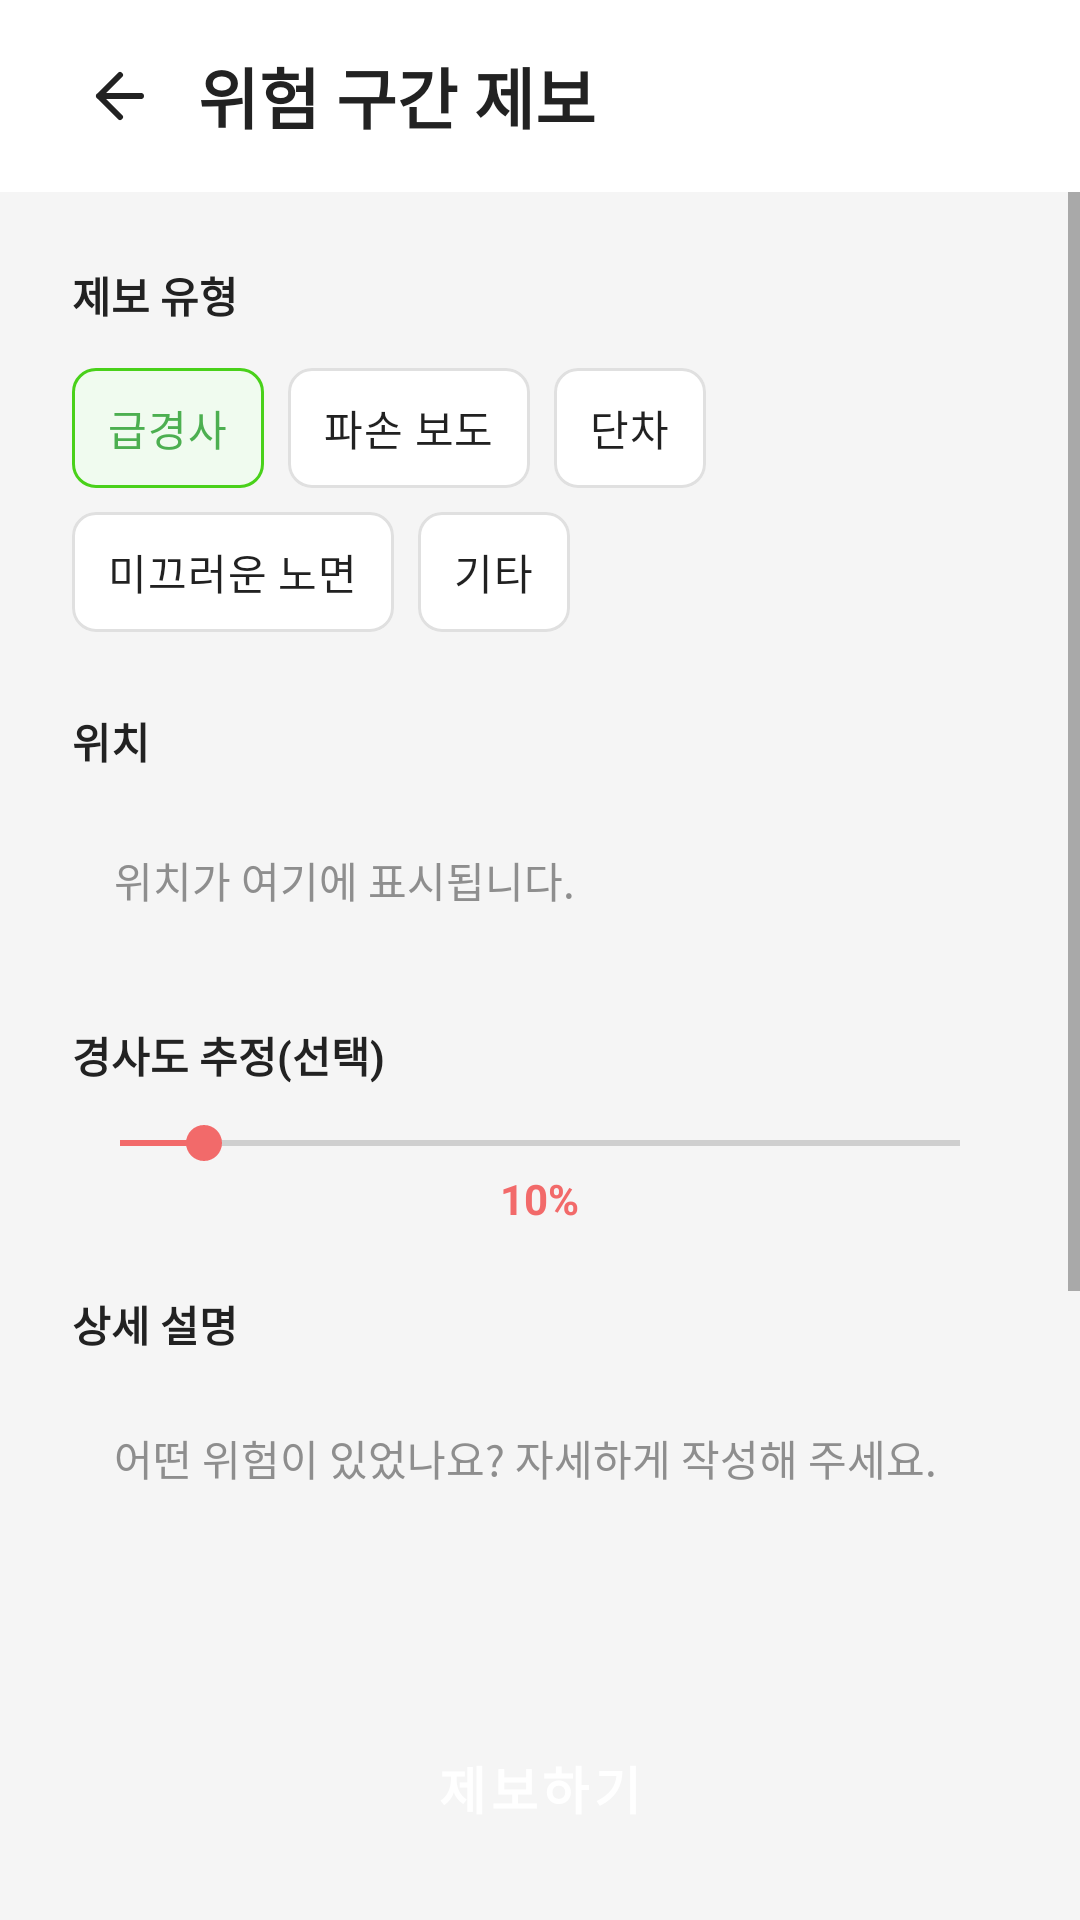

Point at icon controls on the screen. Image size 1080×1920, points as (x=x, y=y).
뒤로가기: (x=120, y=96)
